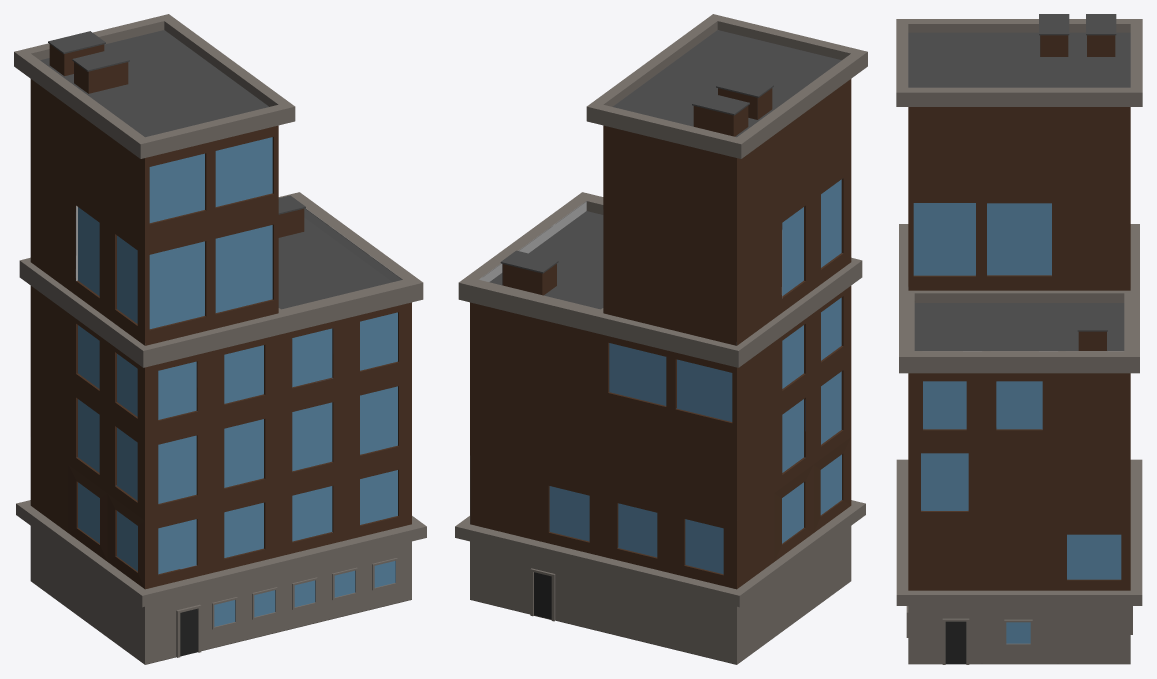
File: CityBuilding09.glb
3 renders of one model, left to right at view 1: azimuth 30°, elevation 25°; view 2: azimuth 150°, elevation 25°; view 3: azimuth 270°, elevation 25°, orthographic. The views are drawn at different scales.
Parts seen in each view (by area): view 1: CityBuilding09; view 2: CityBuilding09; view 3: CityBuilding09.
Part boxes in pixels (left/top/right/bottom): CityBuilding09: left=14, top=14, right=426, bottom=664; CityBuilding09: left=455, top=14, right=867, bottom=664; CityBuilding09: left=896, top=14, right=1142, bottom=664.
Size of what is drawn, in the model's own units: 12.22 by 22.14 by 9.35.
Materials: 1 (1 with a texture image).
